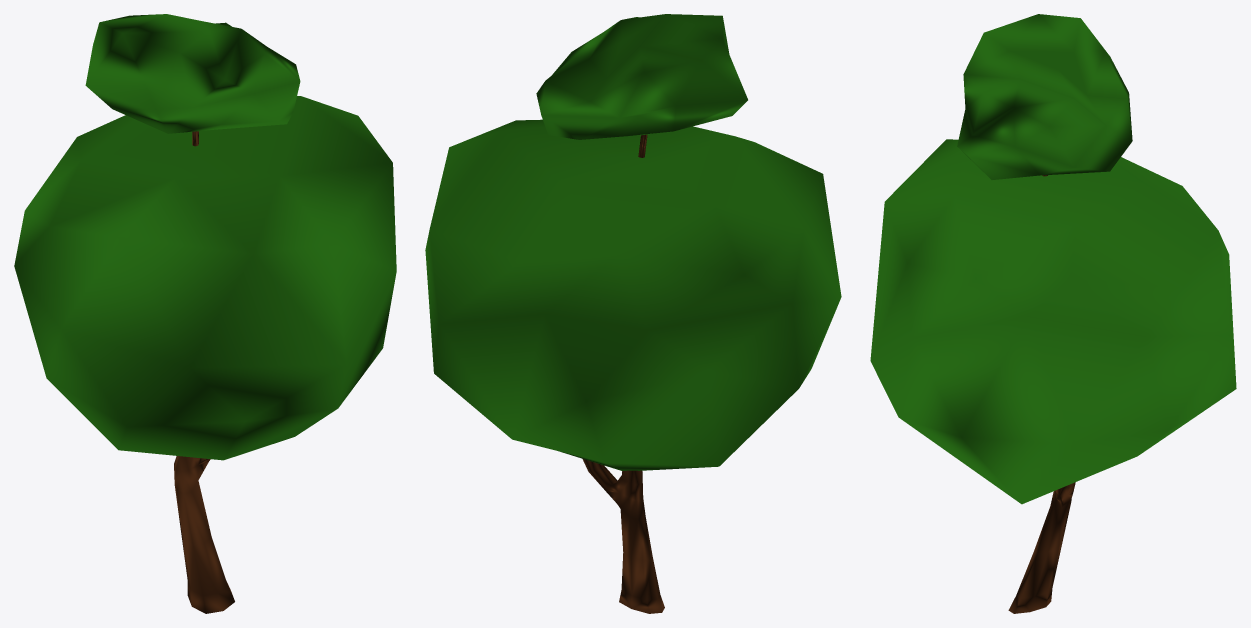
File: Bush_2.obj
The picture shows the model from 3 angles, left to right: view 1: azimuth 30°, elevation 25°; view 2: azimuth 150°, elevation 25°; view 3: azimuth 270°, elevation 25°; orthographic projection. The views are drawn at different scales.
Visible parts, largest first — view 1: Bush_2; view 2: Bush_2; view 3: Bush_2.
Part boxes in pixels (left/top/right/bottom): Bush_2: left=14, top=14, right=396, bottom=613; Bush_2: left=425, top=14, right=841, bottom=613; Bush_2: left=870, top=14, right=1236, bottom=613.
Size of the model in its own units: 155 by 254 by 151.
